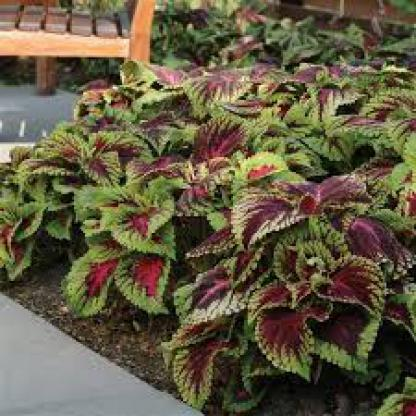Bunga Coleus: (46, 96, 403, 340)
